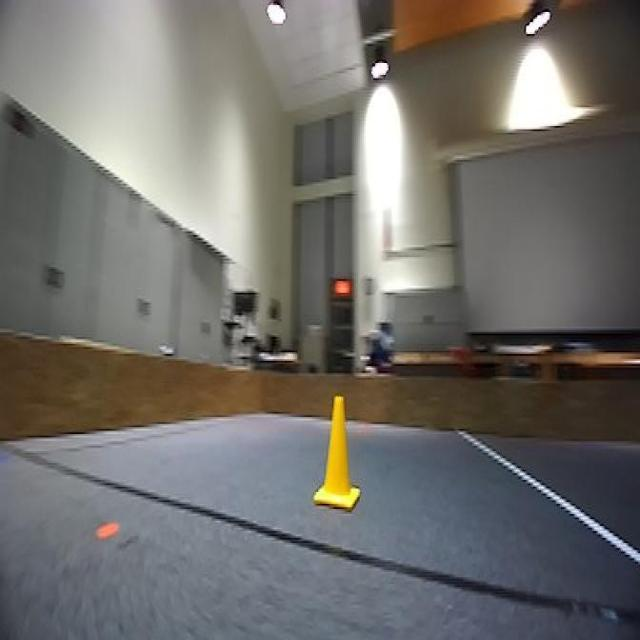frc_cone: (315, 392, 361, 511)
